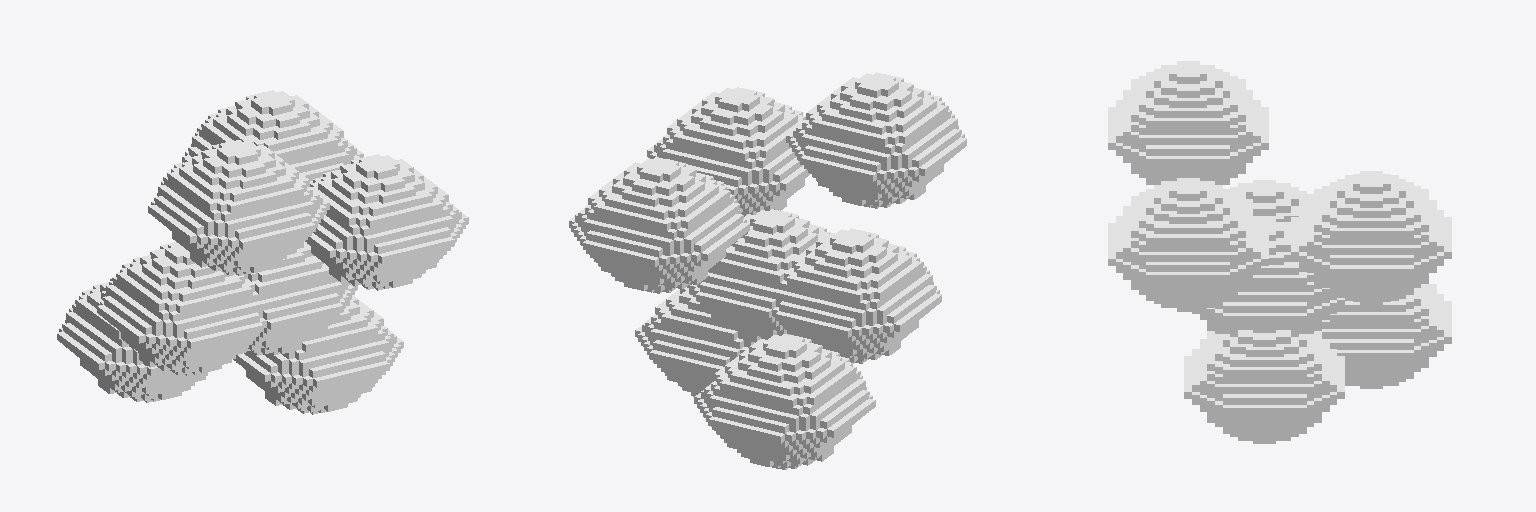
The model's file is nubes.obj.
3 views of the same model, side by side, from view 1: azimuth 30°, elevation 25°; view 2: azimuth 150°, elevation 25°; view 3: azimuth 270°, elevation 25° (orthographic).
Parts seen in each view (by area): view 1: object 1; view 2: object 1; view 3: object 1.
Boxes of the visible parts, box(x1,y1,x2,y2) form: object 1: box(57, 90, 468, 414); object 1: box(569, 72, 966, 469); object 1: box(1108, 61, 1451, 443).
Bounding box in the file's own units: 4.4 × 4.5 × 4.5.